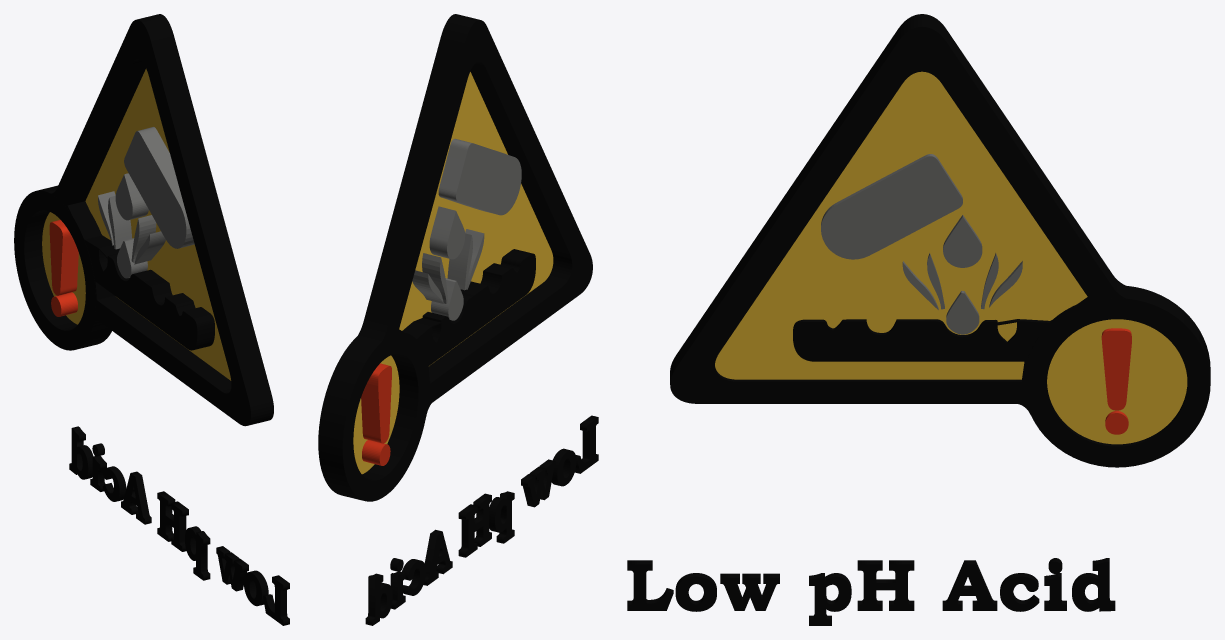
The model's file is low ph acid.fbx.
The picture shows the model from 3 angles, left to right: view 1: azimuth 30°, elevation 25°; view 2: azimuth 150°, elevation 25°; view 3: azimuth 270°, elevation 25°; orthographic projection. The views are drawn at different scales.
Parts seen in each view (by area): view 1: Circle, Text.004; view 2: Circle, Text.004; view 3: Circle, Text.004.
Part boxes in pixels (x1,y1,x2,y2): Circle: (14,14,273,426); Text.004: (69,426,289,625); Circle: (318,14,592,501); Text.004: (365,415,598,625); Circle: (670,14,1210,467); Text.004: (627,558,1115,625).
Size of the model in its own units: 4.93 by 106 by 92.87.
Materials: 2 (2 with a texture image).
